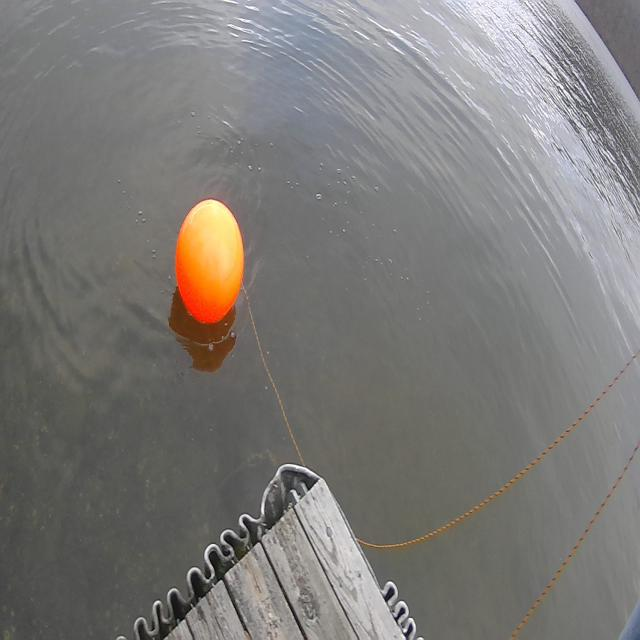Buoy: (169, 192, 251, 334)
